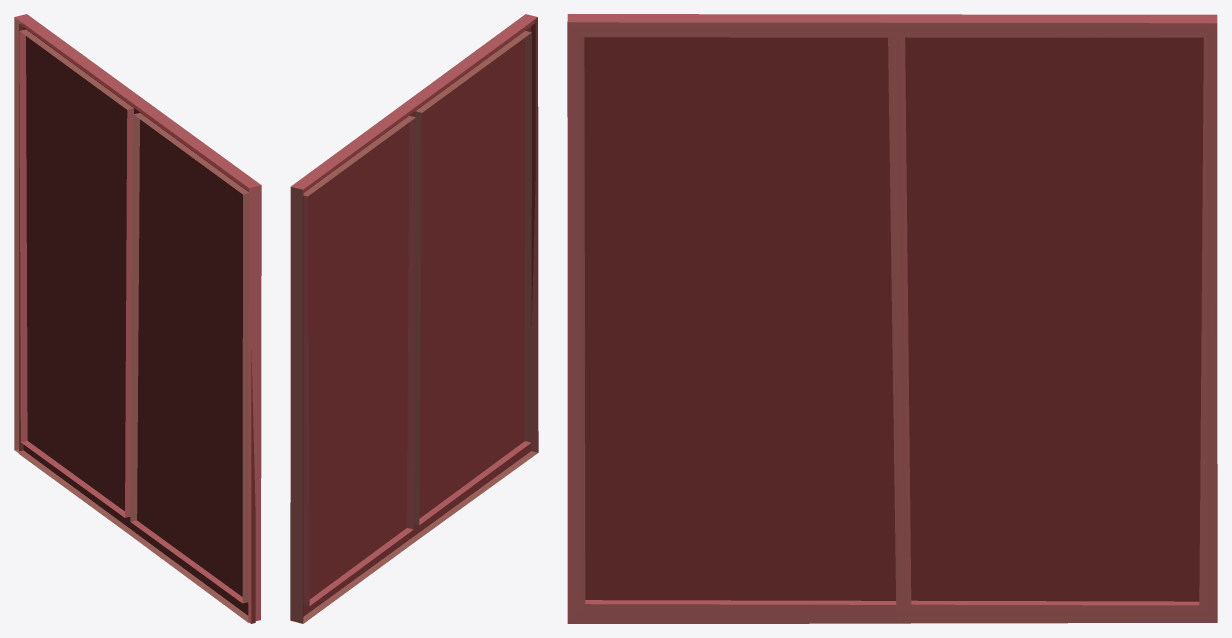
Rendered from Gym_Mirror.fbx.
3 views of the same model, side by side, from view 1: azimuth 30°, elevation 25°; view 2: azimuth 150°, elevation 25°; view 3: azimuth 270°, elevation 25° (orthographic). The views are drawn at different scales.
Visible parts, largest first — view 1: Gym_Mirror; view 2: Gym_Mirror; view 3: Gym_Mirror.
Part boxes in pixels (box(x1,y1,x2,y2)): Gym_Mirror: box(14, 14, 261, 623); Gym_Mirror: box(290, 14, 538, 623); Gym_Mirror: box(567, 14, 1217, 623).
Bounding box in the file's own units: 8.36 × 267 × 260.
